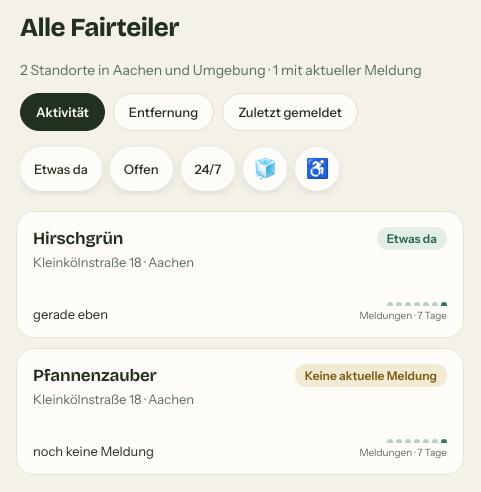
Test: ListeView › filter chips reduce the rendered cards
The width and height of the screenshot is (481, 492).
Expected: the number of links with class "listecard" is 2, left=16, top=211, right=464, bottom=338; left=16, top=348, right=464, bottom=475
Click the button with test id "chip-etwasDa" at (61, 169), box left=20, top=147, right=102, bottom=191
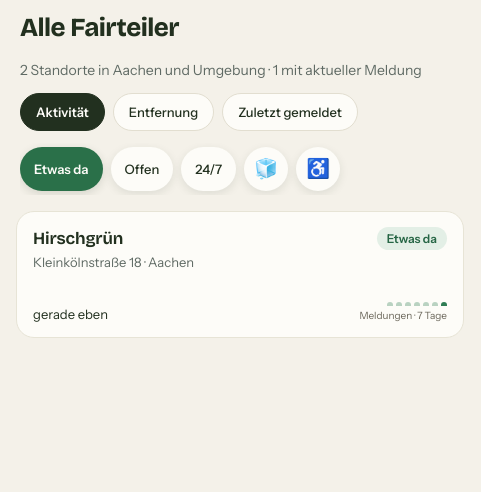
Expected: the link with class "listecard" shows "Hirschgrün", left=33, top=228, right=123, bottom=249
Result: the number of links with class "listecard" is 1 at left=16, top=211, right=464, bottom=338
Click the button with test id "chip-cooled" at (266, 169), box left=244, top=147, right=288, bottom=191
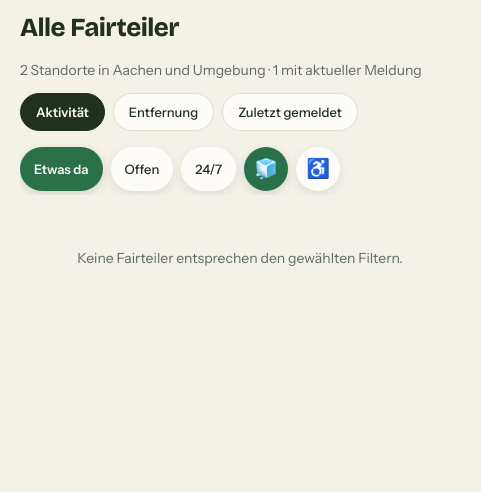
Result: no links with class "listecard" are shown
Result: the text "Keine Fairteiler entsprechen den gewählten Filtern." is shown at left=77, top=249, right=403, bottom=267
